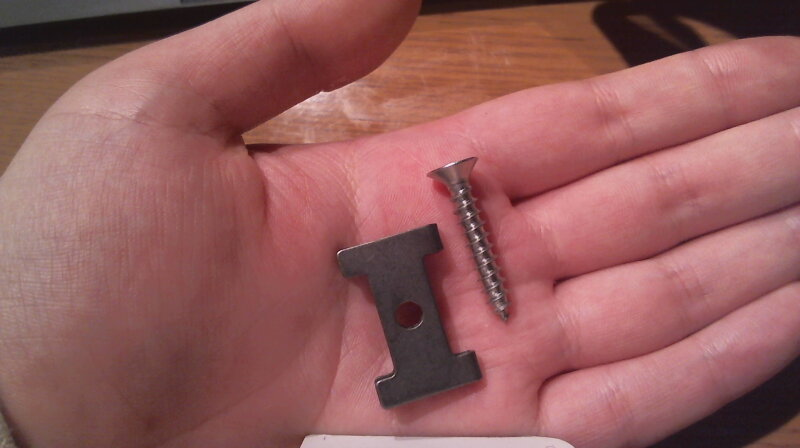O002: (329, 216, 485, 406)
S001: (422, 155, 519, 329)
